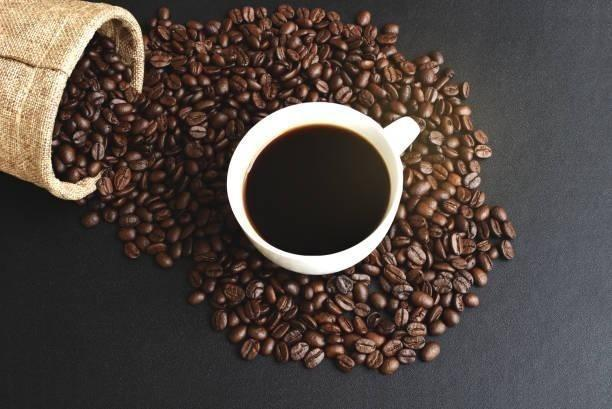cup-handle: (224, 100, 423, 281)
